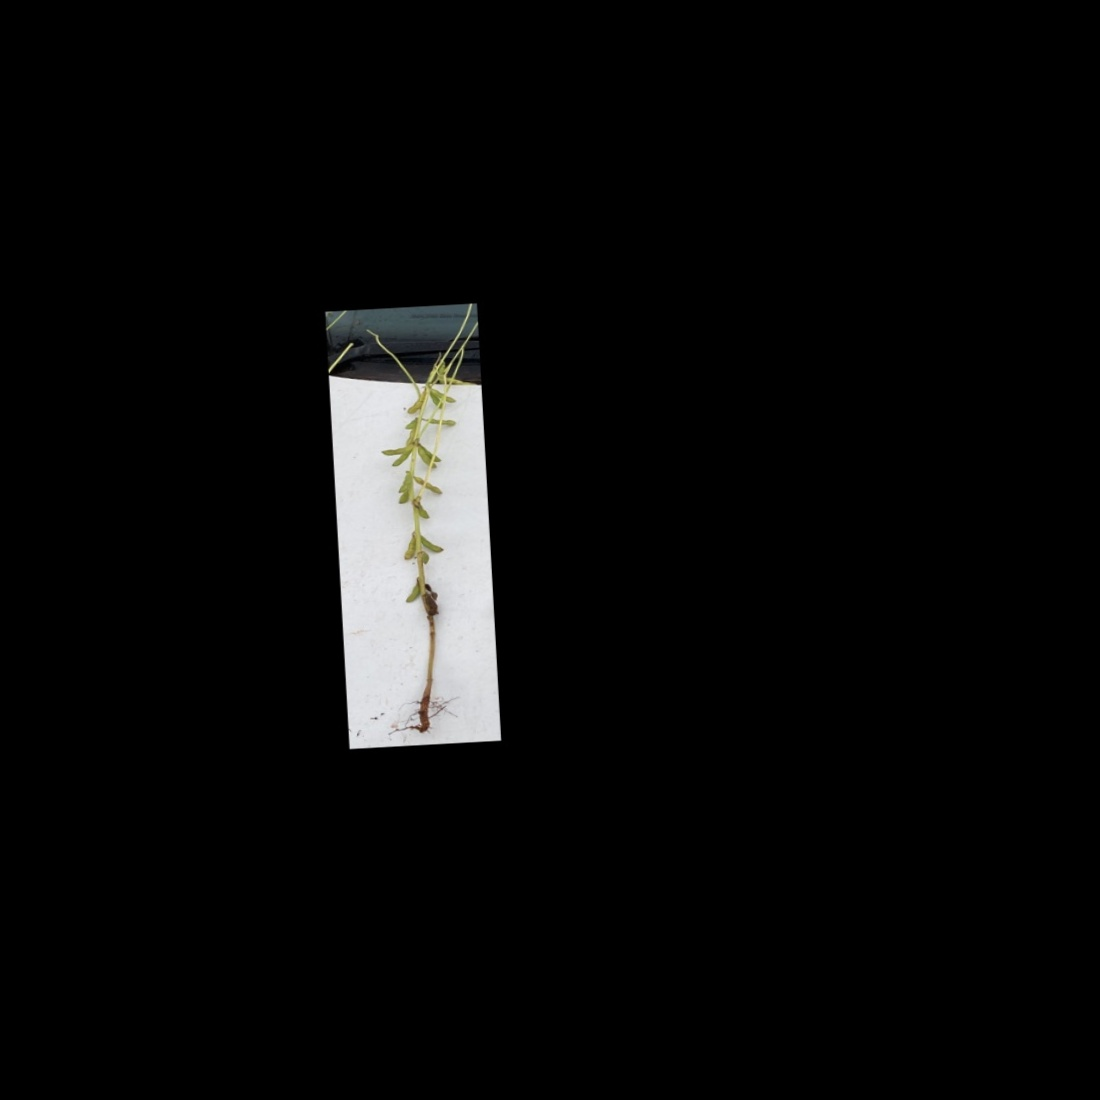pod: (410, 473, 444, 498), (415, 442, 437, 471), (404, 389, 427, 416), (429, 382, 456, 405), (420, 531, 445, 554), (401, 531, 418, 564), (388, 447, 413, 468), (404, 579, 423, 604), (394, 473, 412, 495)
soy: (370, 332, 477, 734)
